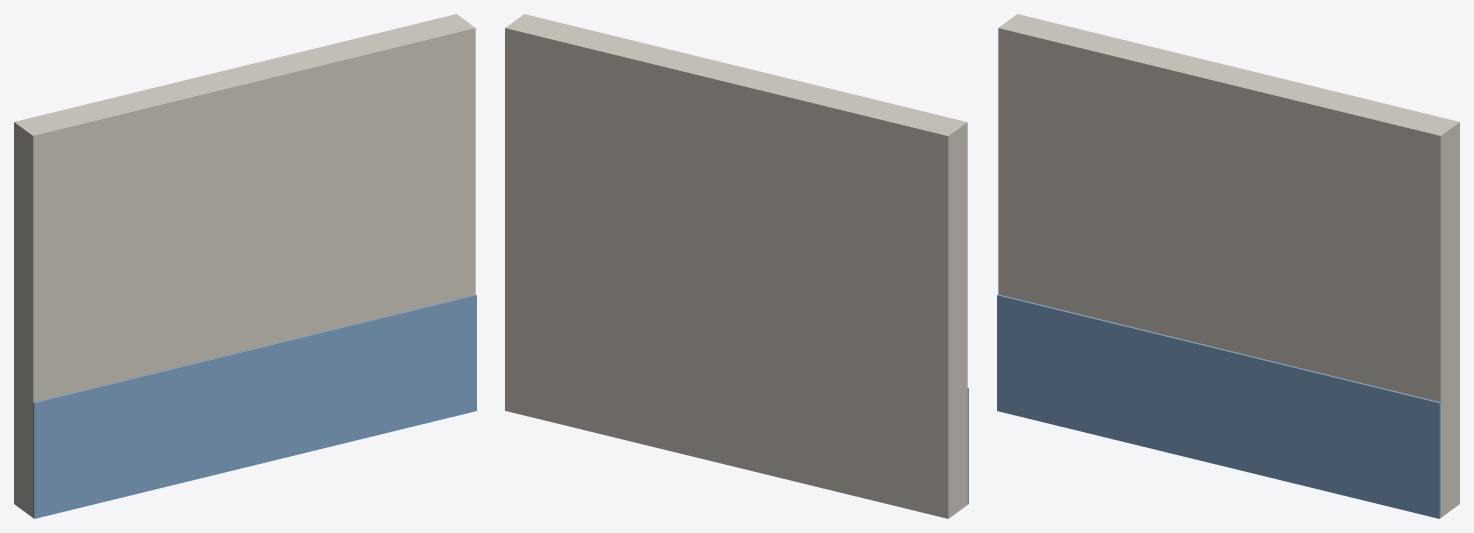
File: b-wall.glb
The picture shows the model from 3 angles, left to right: view 1: azimuth 30°, elevation 25°; view 2: azimuth 150°, elevation 25°; view 3: azimuth 330°, elevation 25°; orthographic projection.
Visible parts, largest first — view 1: b-wall; view 2: b-wall; view 3: b-wall.
Part boxes in pixels (x1,y1,x2,y2): b-wall: (14,14,476,518); b-wall: (505,14,968,518); b-wall: (997,14,1459,518).
Size of the model in its own units: 4 by 3.3 by 0.32.
